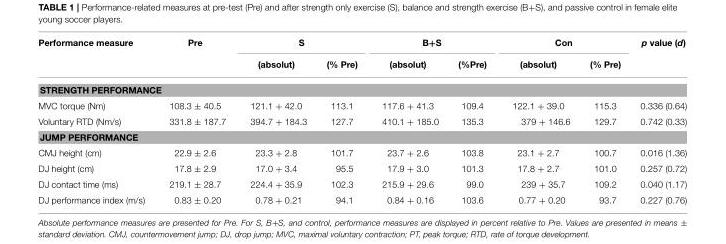table: (37, 37, 686, 204)
table column: (37, 37, 156, 204), (156, 37, 237, 204), (498, 37, 579, 204), (237, 37, 315, 204), (369, 37, 447, 204), (629, 37, 686, 204), (315, 37, 369, 204), (447, 37, 498, 204), (579, 37, 629, 204)
table column header: (37, 37, 686, 77)
table projected row header: (37, 77, 686, 97), (37, 129, 686, 144)
table row: (37, 53, 686, 77), (37, 77, 686, 97), (37, 37, 686, 53), (37, 97, 686, 113), (37, 113, 686, 129), (37, 144, 686, 160), (37, 160, 686, 176), (37, 176, 686, 192), (37, 129, 686, 144), (37, 192, 686, 204)
table spanning cell: (37, 37, 156, 77), (156, 37, 237, 77), (629, 37, 686, 77), (237, 37, 369, 53), (498, 37, 629, 53), (369, 37, 498, 53)
